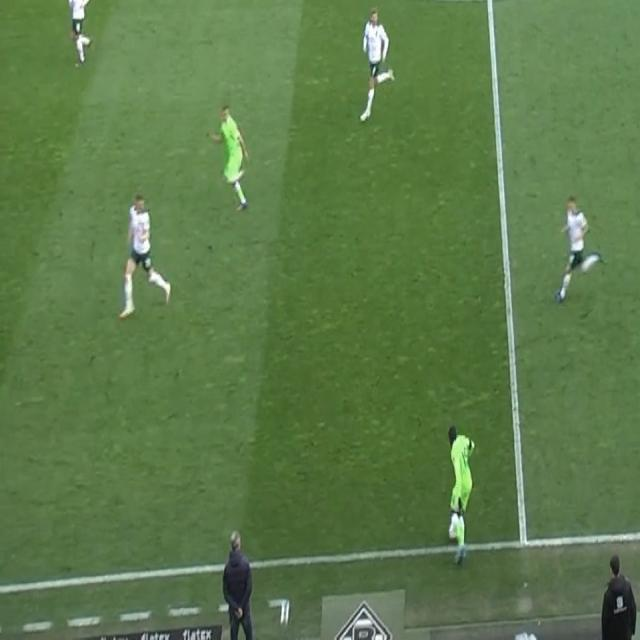ball: (447, 520, 458, 541)
